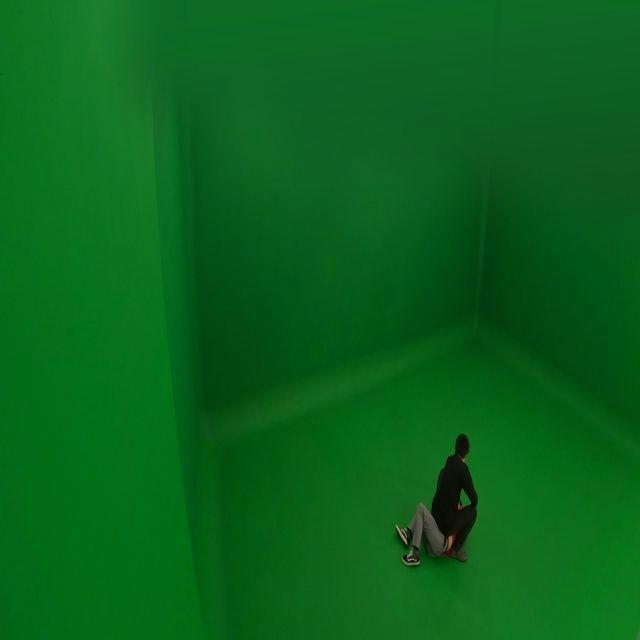fight: (387, 431, 482, 568)
